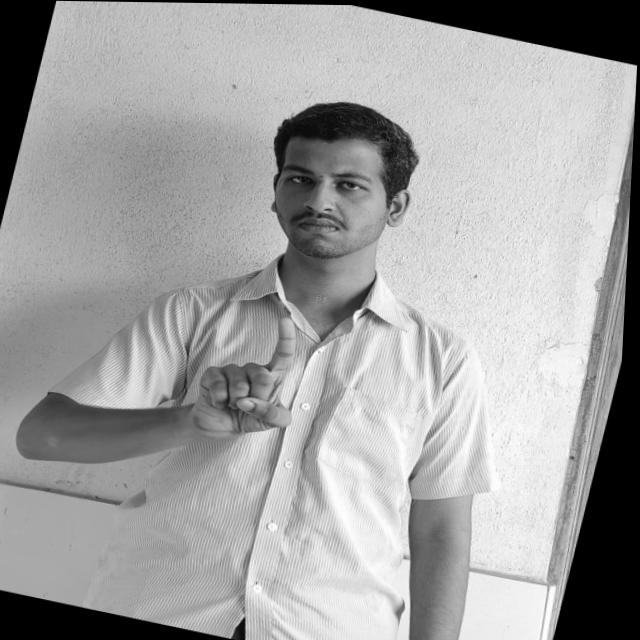Question: (193, 300, 323, 450)
